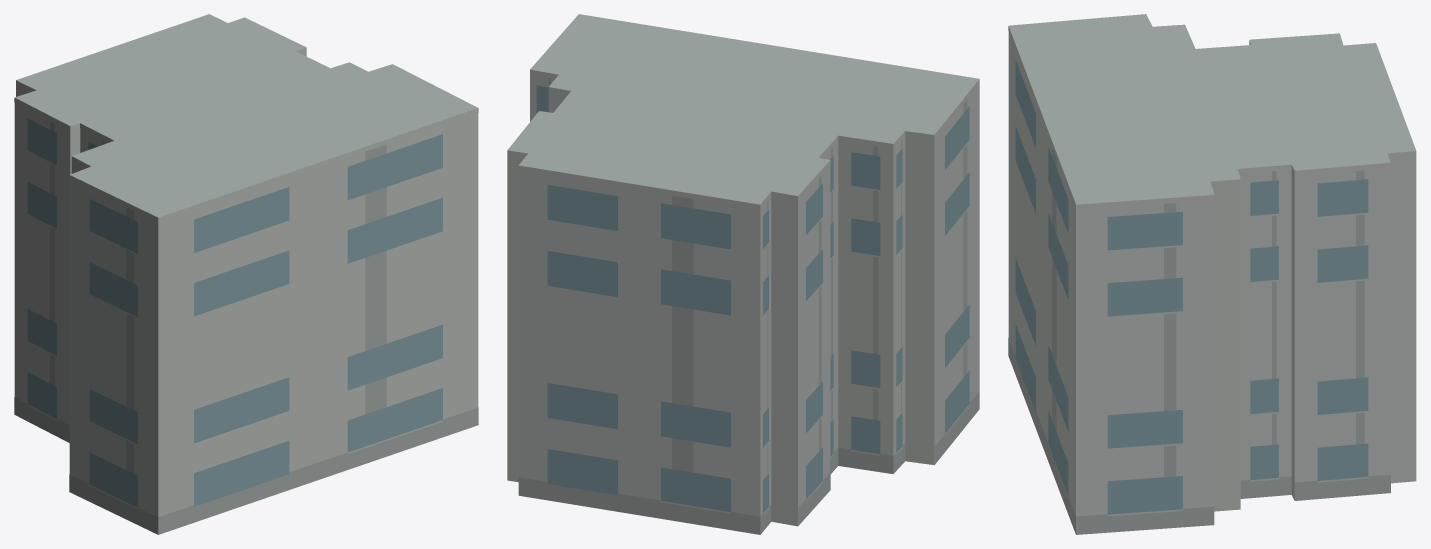
Rendered from survey-upis-32798289.glb.
3 views of the same model, side by side, from view 1: azimuth 30°, elevation 25°; view 2: azimuth 150°, elevation 25°; view 3: azimuth 270°, elevation 25° (orthographic). The views are drawn at different scales.
Parts seen in each view (by area): view 1: survey-upis-32798289.tmp; view 2: survey-upis-32798289.tmp; view 3: survey-upis-32798289.tmp.
Part boxes in pixels (x1,y1,x2,y2): survey-upis-32798289.tmp: (14, 14, 478, 534); survey-upis-32798289.tmp: (507, 14, 979, 534); survey-upis-32798289.tmp: (1008, 14, 1416, 534).
Bounding box in the file's own units: 18.89 × 15.25 × 17.09.
